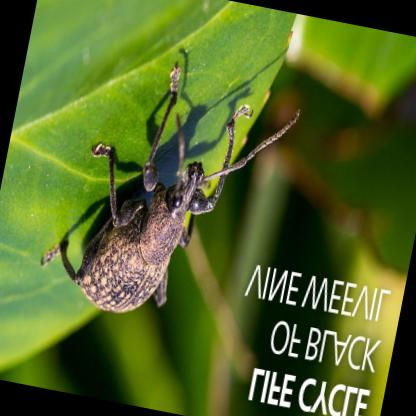ash weevil: (57, 69, 298, 311)
